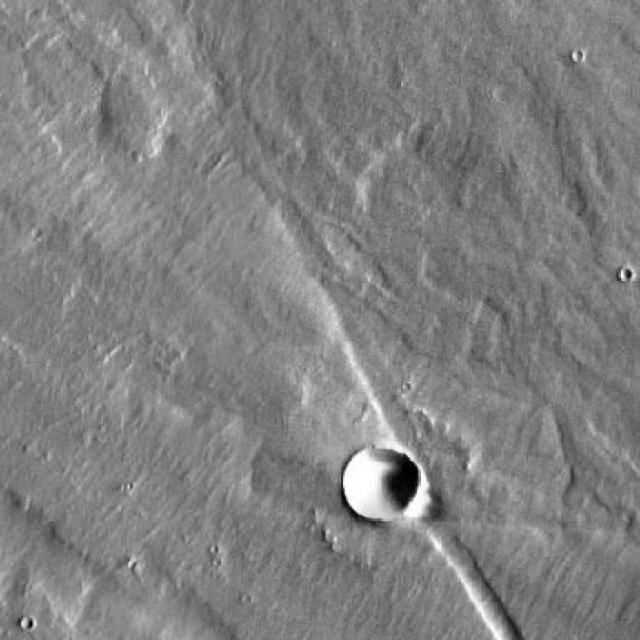crater: (343, 448, 415, 521)
